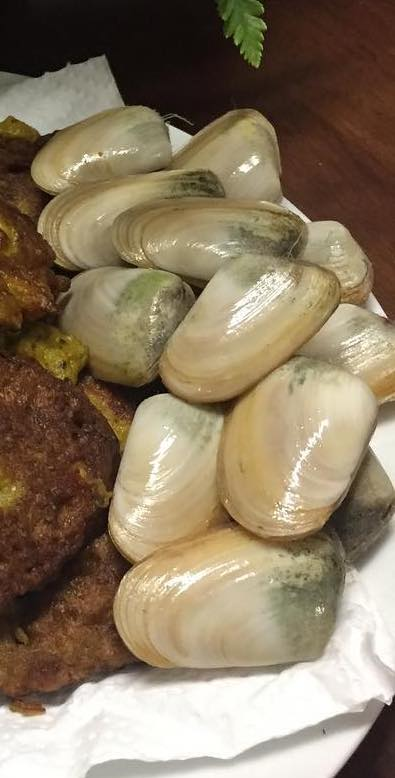tuatua: (105, 529, 350, 677), (211, 353, 387, 535), (157, 251, 342, 403), (104, 386, 235, 564), (49, 261, 196, 386), (37, 167, 224, 261), (109, 189, 305, 277), (27, 103, 175, 187), (172, 105, 286, 205), (301, 215, 374, 307)
